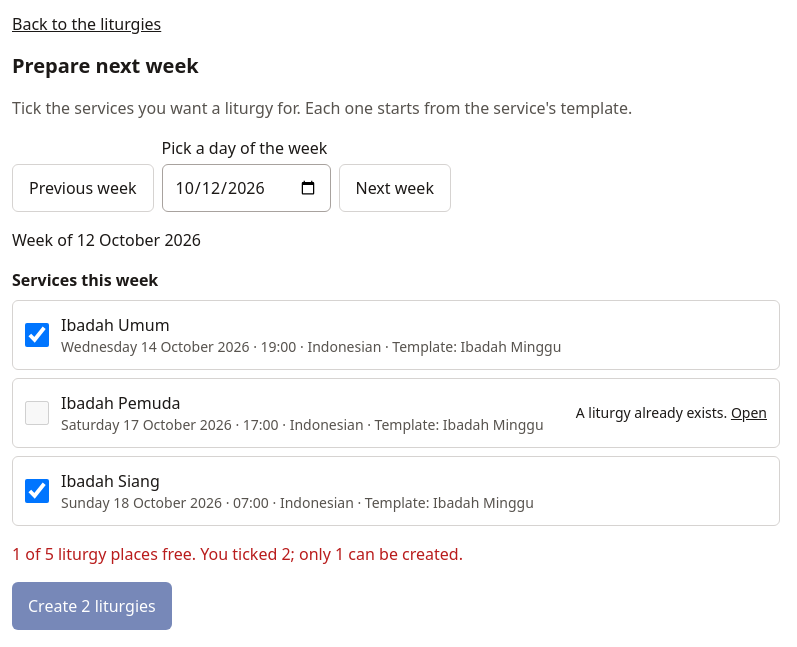
Test: TC-E-004 prepare page › disables Create and says why when more are ticked than the limit allows
Expected: the text "1 of 5 liturgy places free" is shown, [12,543,196,565]
Expected: the text "You ticked 2; only 1 can be created" is shown, [196,543,463,565]
Click the checkbox labelled "Ibadah Siang" at (37, 491), box [25,479,49,503]
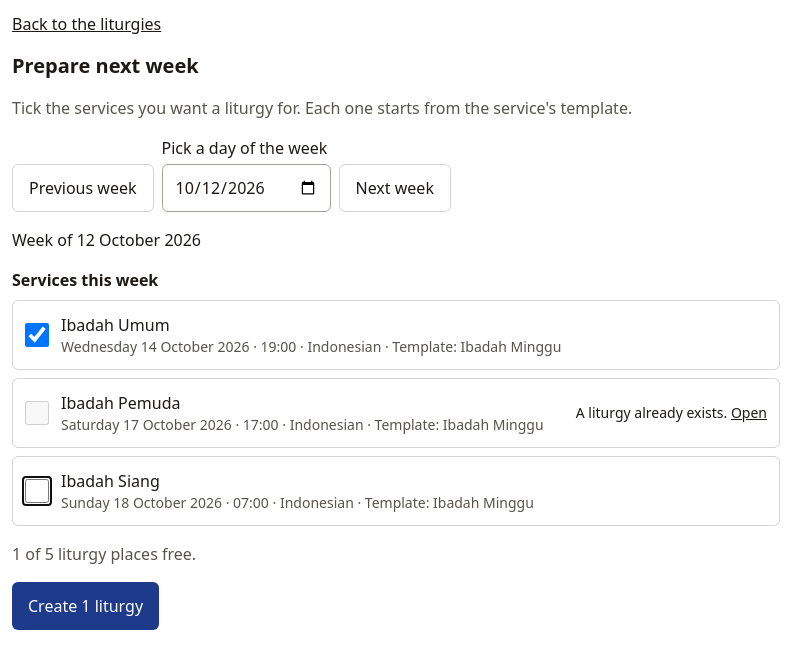
Expected: the button "Create 1 liturgy" is enabled, [12,582,159,630]
